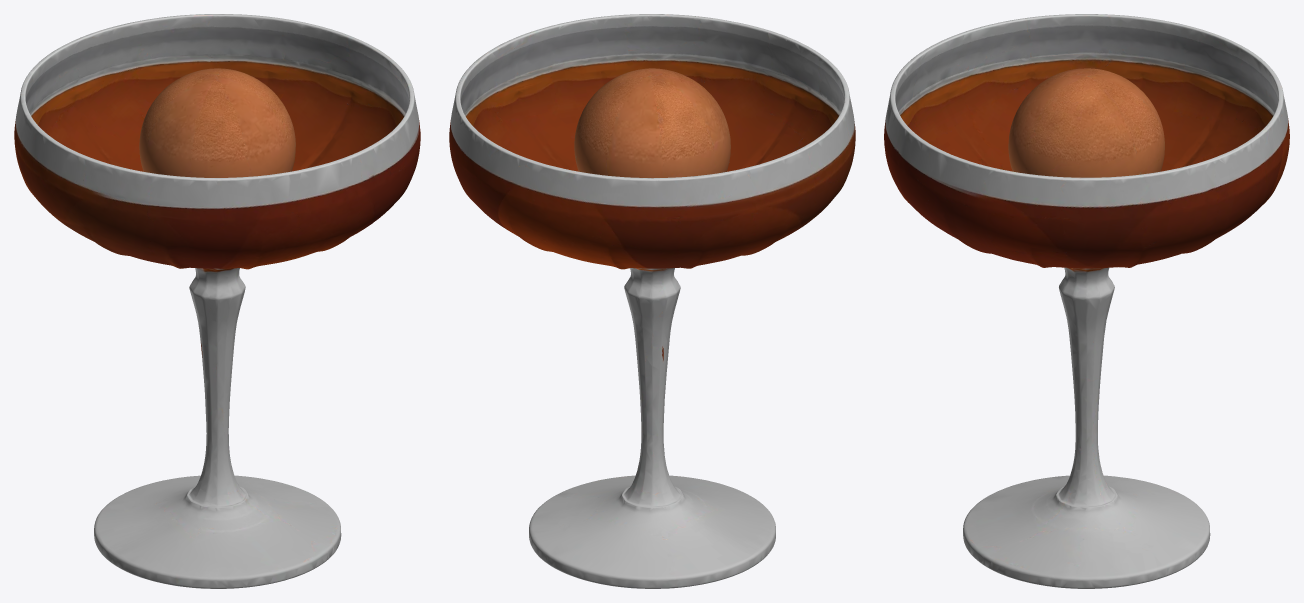
File: coupe_glass.glb
The picture shows the model from 3 angles, left to right: view 1: azimuth 30°, elevation 25°; view 2: azimuth 150°, elevation 25°; view 3: azimuth 270°, elevation 25°; orthographic projection.
Bounding box in the file's own units: 1.51 × 1.9 × 1.51.
1 material, 1 textured.
